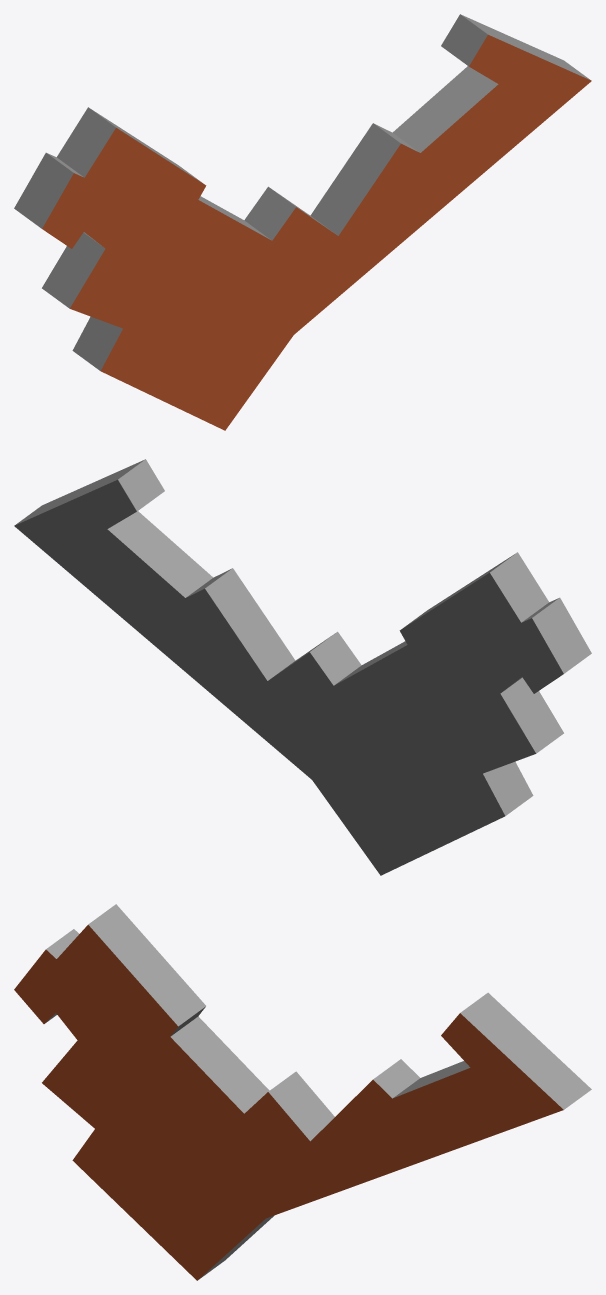
Rendered from construction_3471_assumed_A_Casa_h6m.obj.
The picture shows the model from 3 angles, top to bottom: view 1: azimuth 30°, elevation 25°; view 2: azimuth 150°, elevation 25°; view 3: azimuth 330°, elevation 25°; orthographic projection.
Parts seen in each view (by area): view 1: construction_3471_assumed_A_Casa; view 2: construction_3471_assumed_A_Casa; view 3: construction_3471_assumed_A_Casa.
Part boxes in pixels (x1,y1,x2,y2): construction_3471_assumed_A_Casa: [14, 14, 591, 430]; construction_3471_assumed_A_Casa: [14, 459, 591, 875]; construction_3471_assumed_A_Casa: [14, 904, 591, 1280].
Bounding box in the file's own units: 67.95 × 39.21 × 6.
